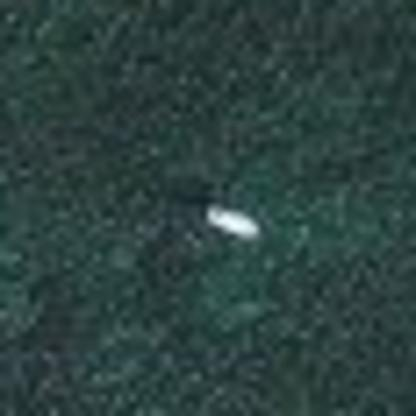ship: (198, 196, 266, 246)
